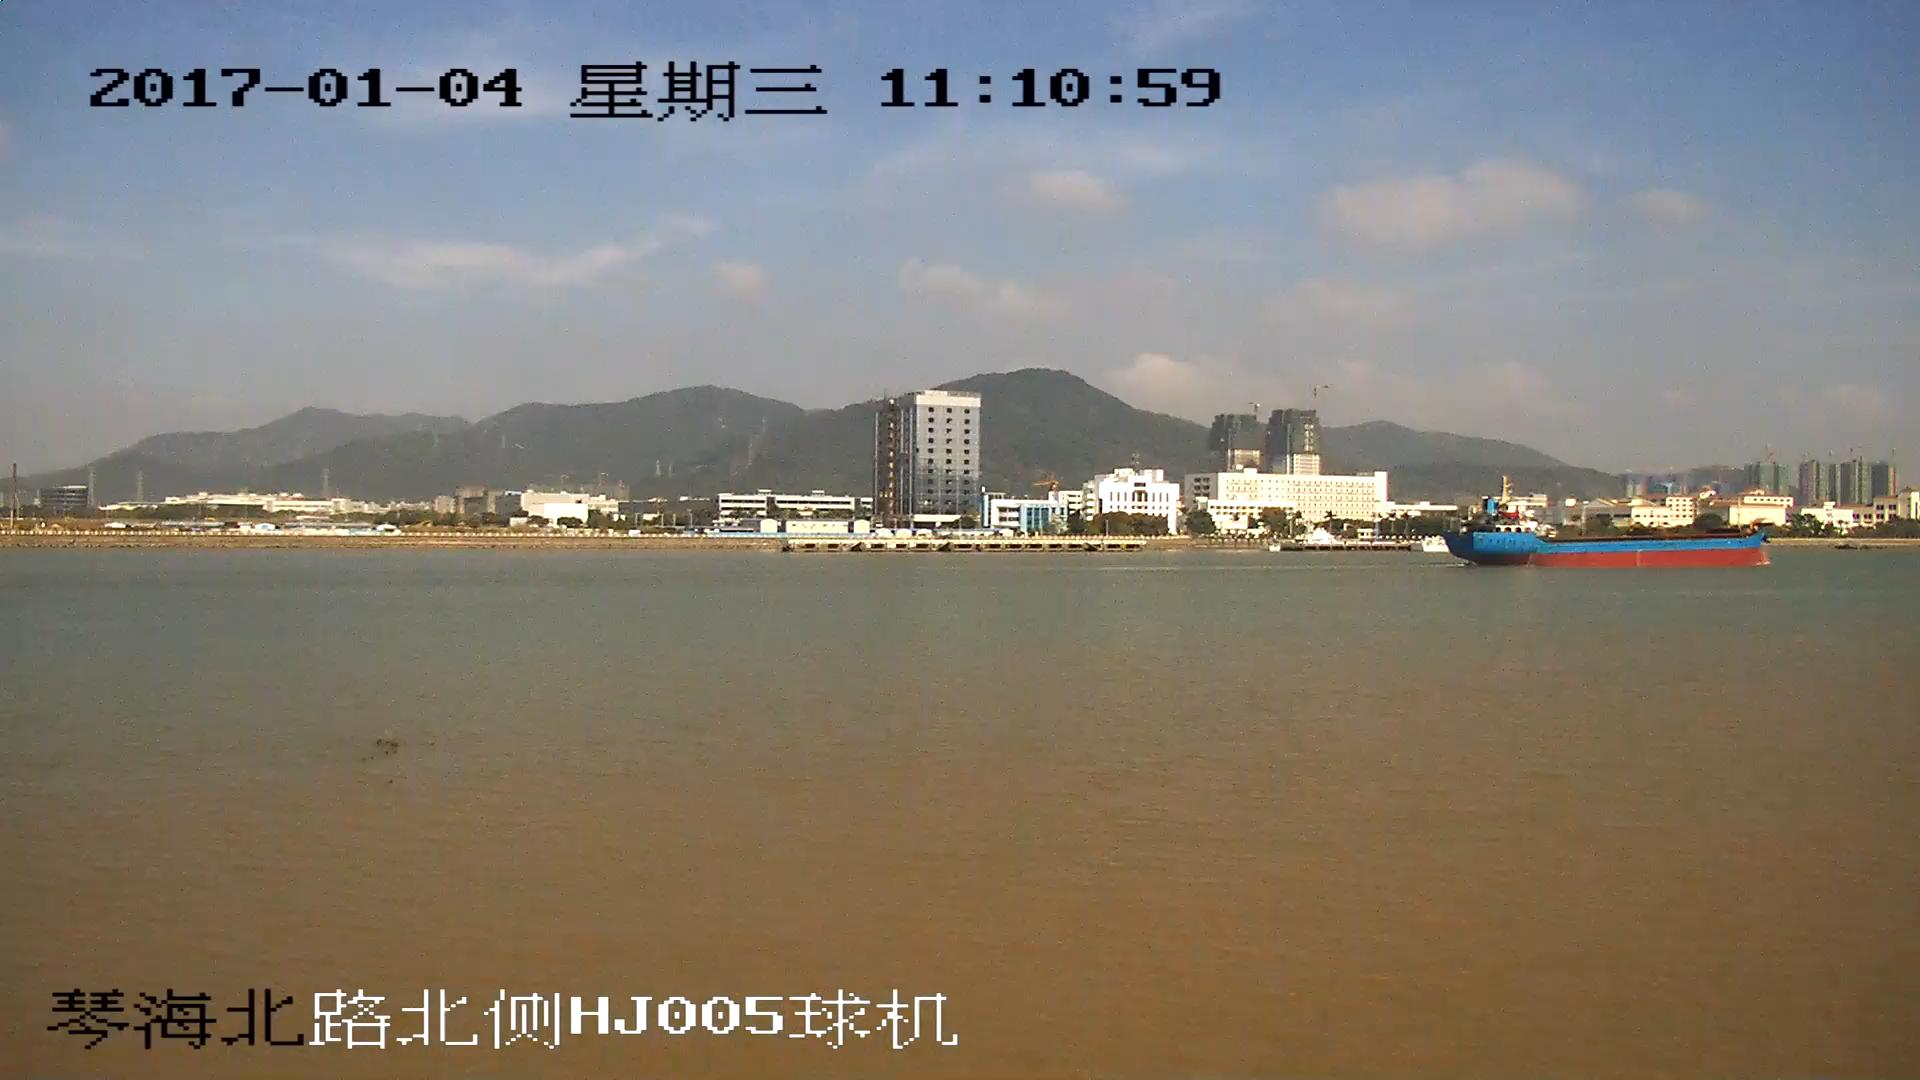general cargo ship: (1444, 488, 1763, 569)
